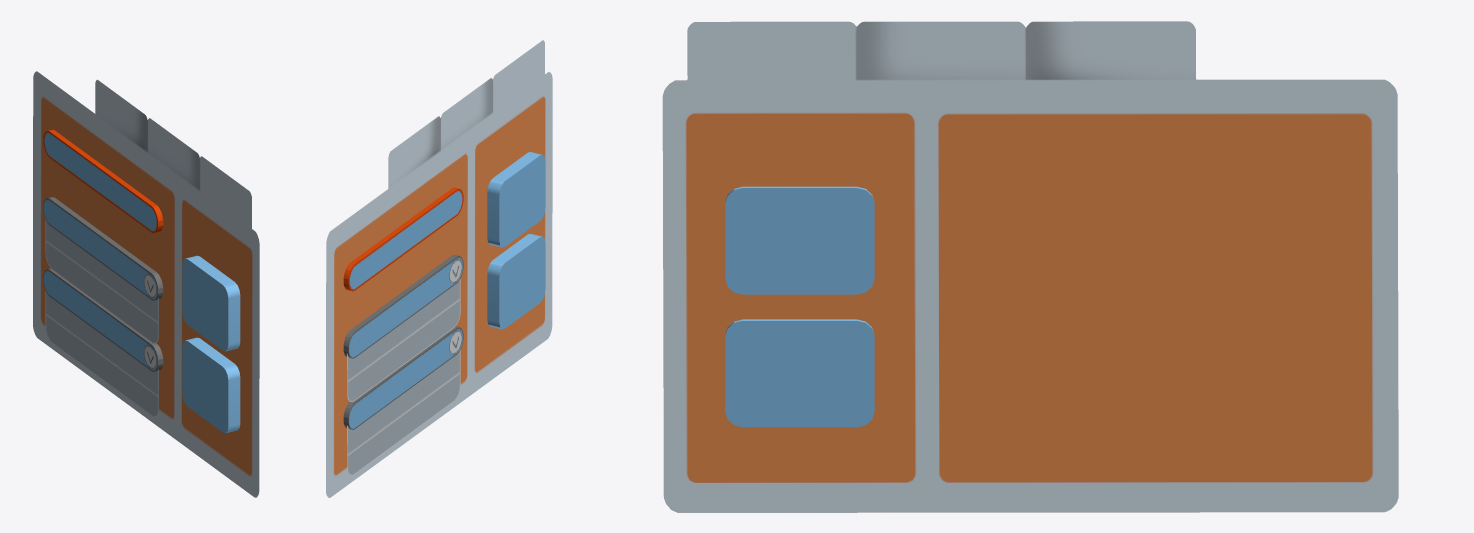
Rendered from Control_Panel_Settings_Tab_V3.fbx.
3 views of the same model, side by side, from view 1: azimuth 30°, elevation 25°; view 2: azimuth 150°, elevation 25°; view 3: azimuth 270°, elevation 25° (orthographic). The views are drawn at different scales.
Visible parts, largest first — view 1: menu_settings_tab, dropdown, dropdown1, reset_char_button, reset_stage_button, settings_drop_button2, settings_drop_button1, settings_drop_button; view 2: menu_settings_tab, dropdown, dropdown1, reset_char_button, reset_stage_button, settings_drop_button2, settings_drop_button1, settings_drop_button; view 3: menu_settings_tab, reset_stage_button, reset_char_button.
Boxes of the visible parts, x1,y1,x2,y2 form: menu_settings_tab: (33,71,259,497); dropdown: (45,290,158,416); dropdown1: (45,219,158,343); reset_char_button: (182,255,240,351); reset_stage_button: (182,337,240,433); settings_drop_button2: (43,129,163,233); settings_drop_button1: (43,197,163,300); settings_drop_button: (43,268,163,371); menu_settings_tab: (326,40,552,497); dropdown: (347,350,460,475); dropdown1: (347,279,460,401); reset_char_button: (487,152,545,247); reset_stage_button: (487,233,545,329); settings_drop_button2: (343,187,463,291); settings_drop_button1: (343,255,463,358); settings_drop_button: (343,326,463,429); menu_settings_tab: (662,21,1398,512); reset_stage_button: (725,319,874,427); reset_char_button: (725,186,874,294).
Bounding box in the file's own units: 0.5491 × 11.8 × 18.19.
